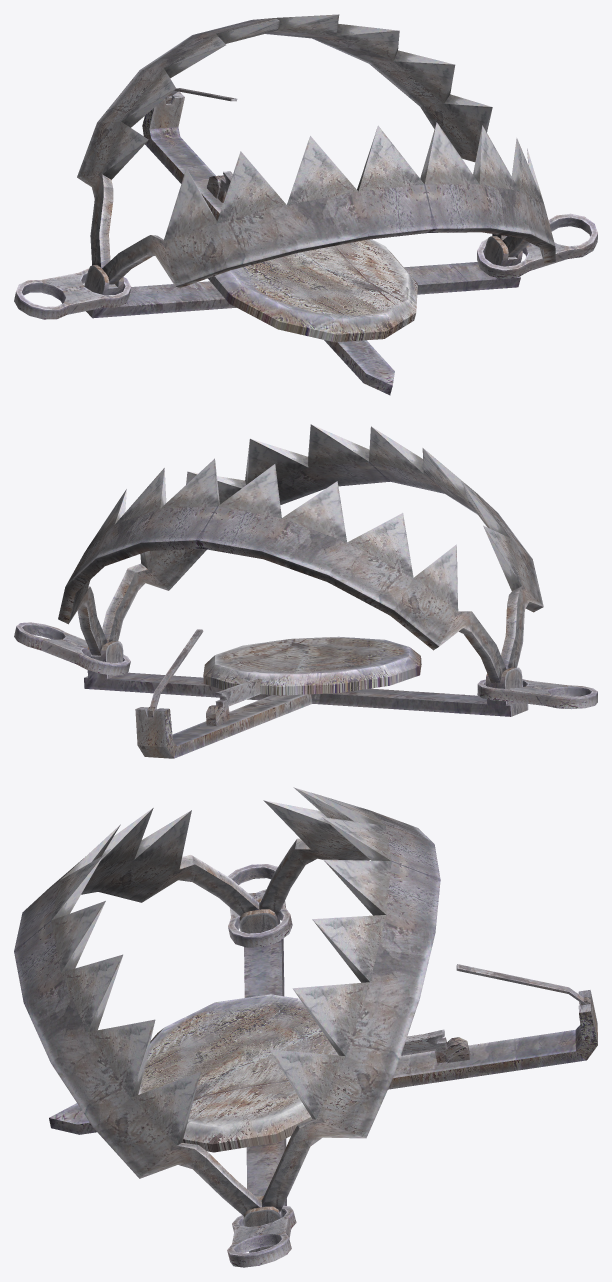
3 views of the same model, one above another, from view 1: azimuth 30°, elevation 25°; view 2: azimuth 150°, elevation 25°; view 3: azimuth 270°, elevation 25° (orthographic). The views are drawn at different scales.
Visible parts, largest first — view 1: Trap_LeftSide, Trap_RightSide, Trap_Center, Trap_Cross, Trap_1; view 2: Trap_RightSide, Trap_LeftSide, Trap_Cross, Trap_Center, Trap_1, Trap_4, Trap_3; view 3: Trap_RightSide, Trap_LeftSide, Trap_Center, Trap_Cross, Trap_1, Trap_4, Trap_3.
Boxes of the visible parts, x1,y1,x2,y2 form: Trap_LeftSide: (102,122,555,288); Trap_RightSide: (77,14,507,268); Trap_Center: (208,239,417,342); Trap_Cross: (84,91,522,395); Trap_1: (14,213,597,319); Trap_RightSide: (58,458,506,682); Trap_LeftSide: (102,424,543,669); Trap_Cross: (84,641,528,758); Trap_Center: (203,636,421,695); Trap_1: (14,622,597,709); Trap_4: (215,678,262,721); Trap_3: (150,629,203,713); Trap_RightSide: (259,787,440,1211); Trap_LeftSide: (14,808,261,1215); Trap_Center: (138,994,338,1152); Trap_Cross: (49,899,597,1252); Trap_1: (227,864,296,1267); Trap_4: (401,1029,447,1063); Trap_3: (456,964,587,1004).
Size of the model in its own units: 149 by 72.28 by 117.
Materials: 1 (1 with a texture image).
